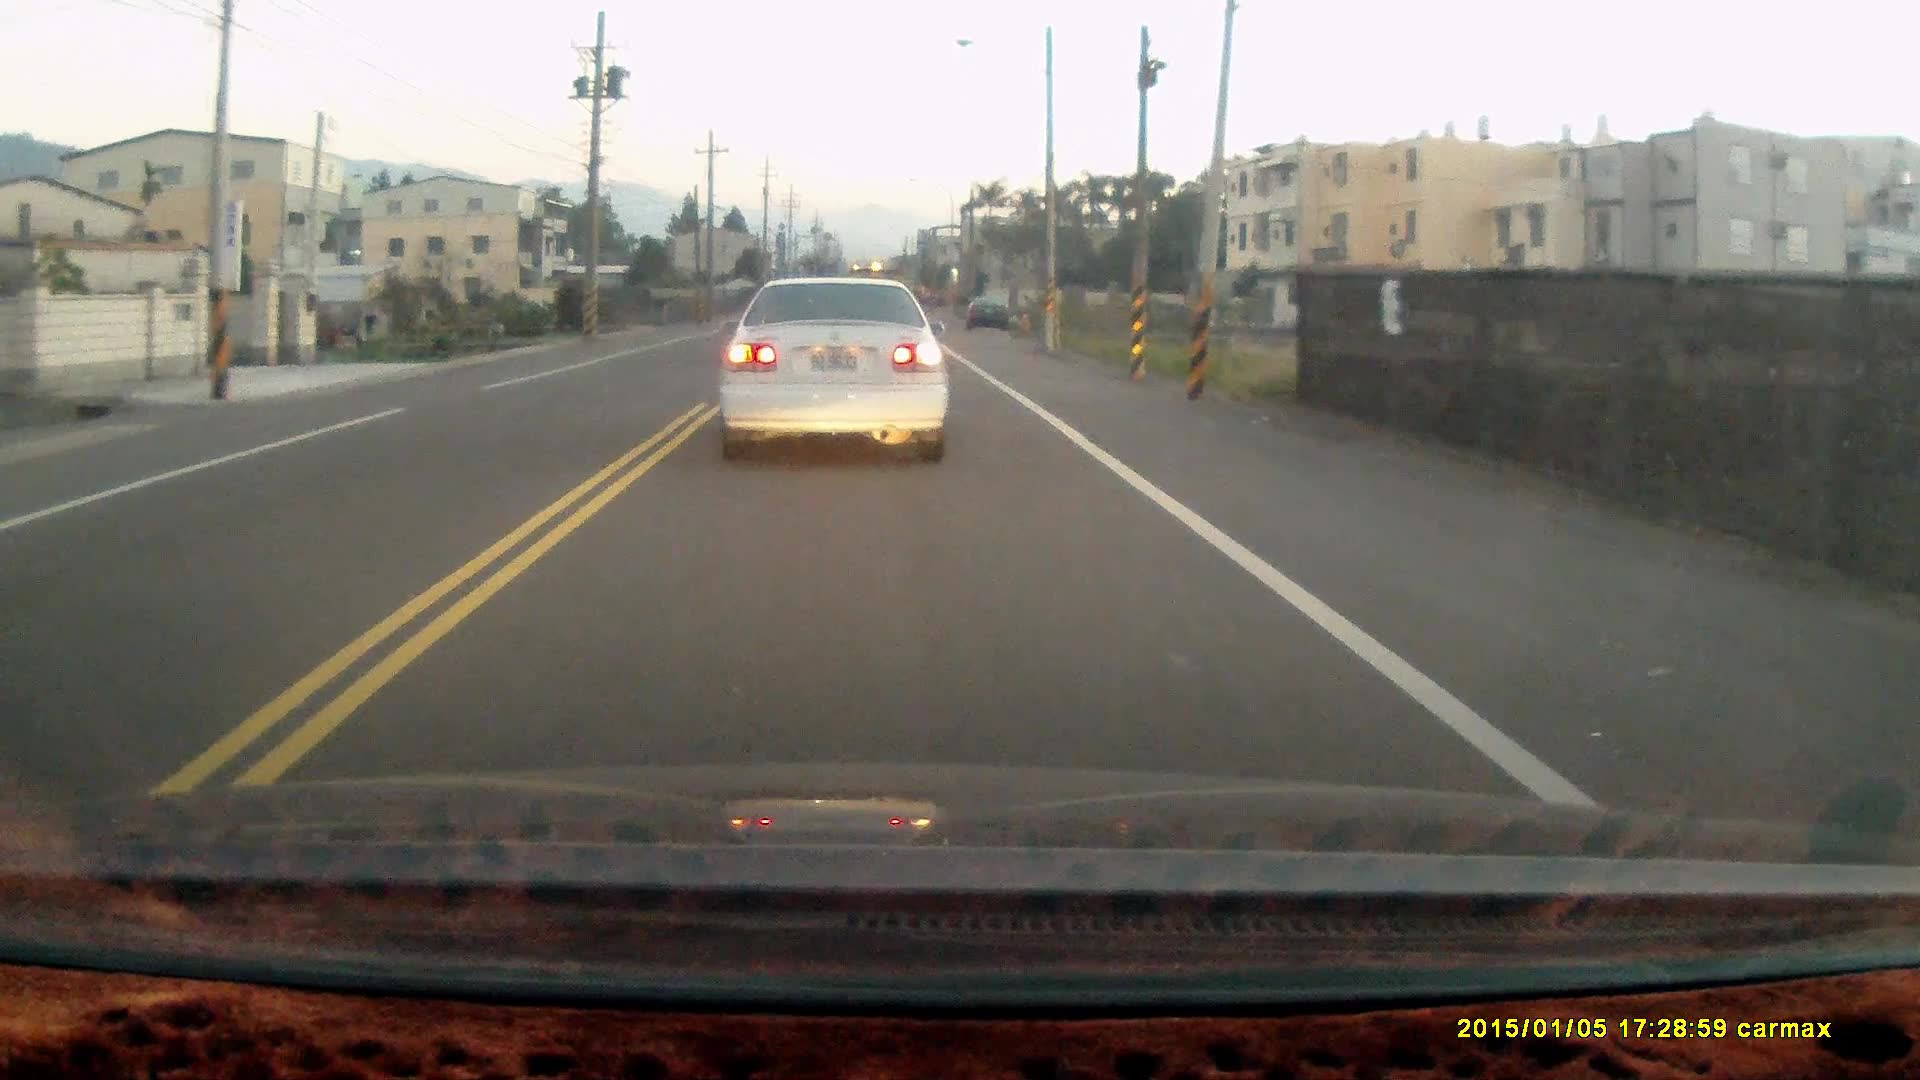vehicle: (720, 280, 955, 472), (967, 295, 1014, 335)
